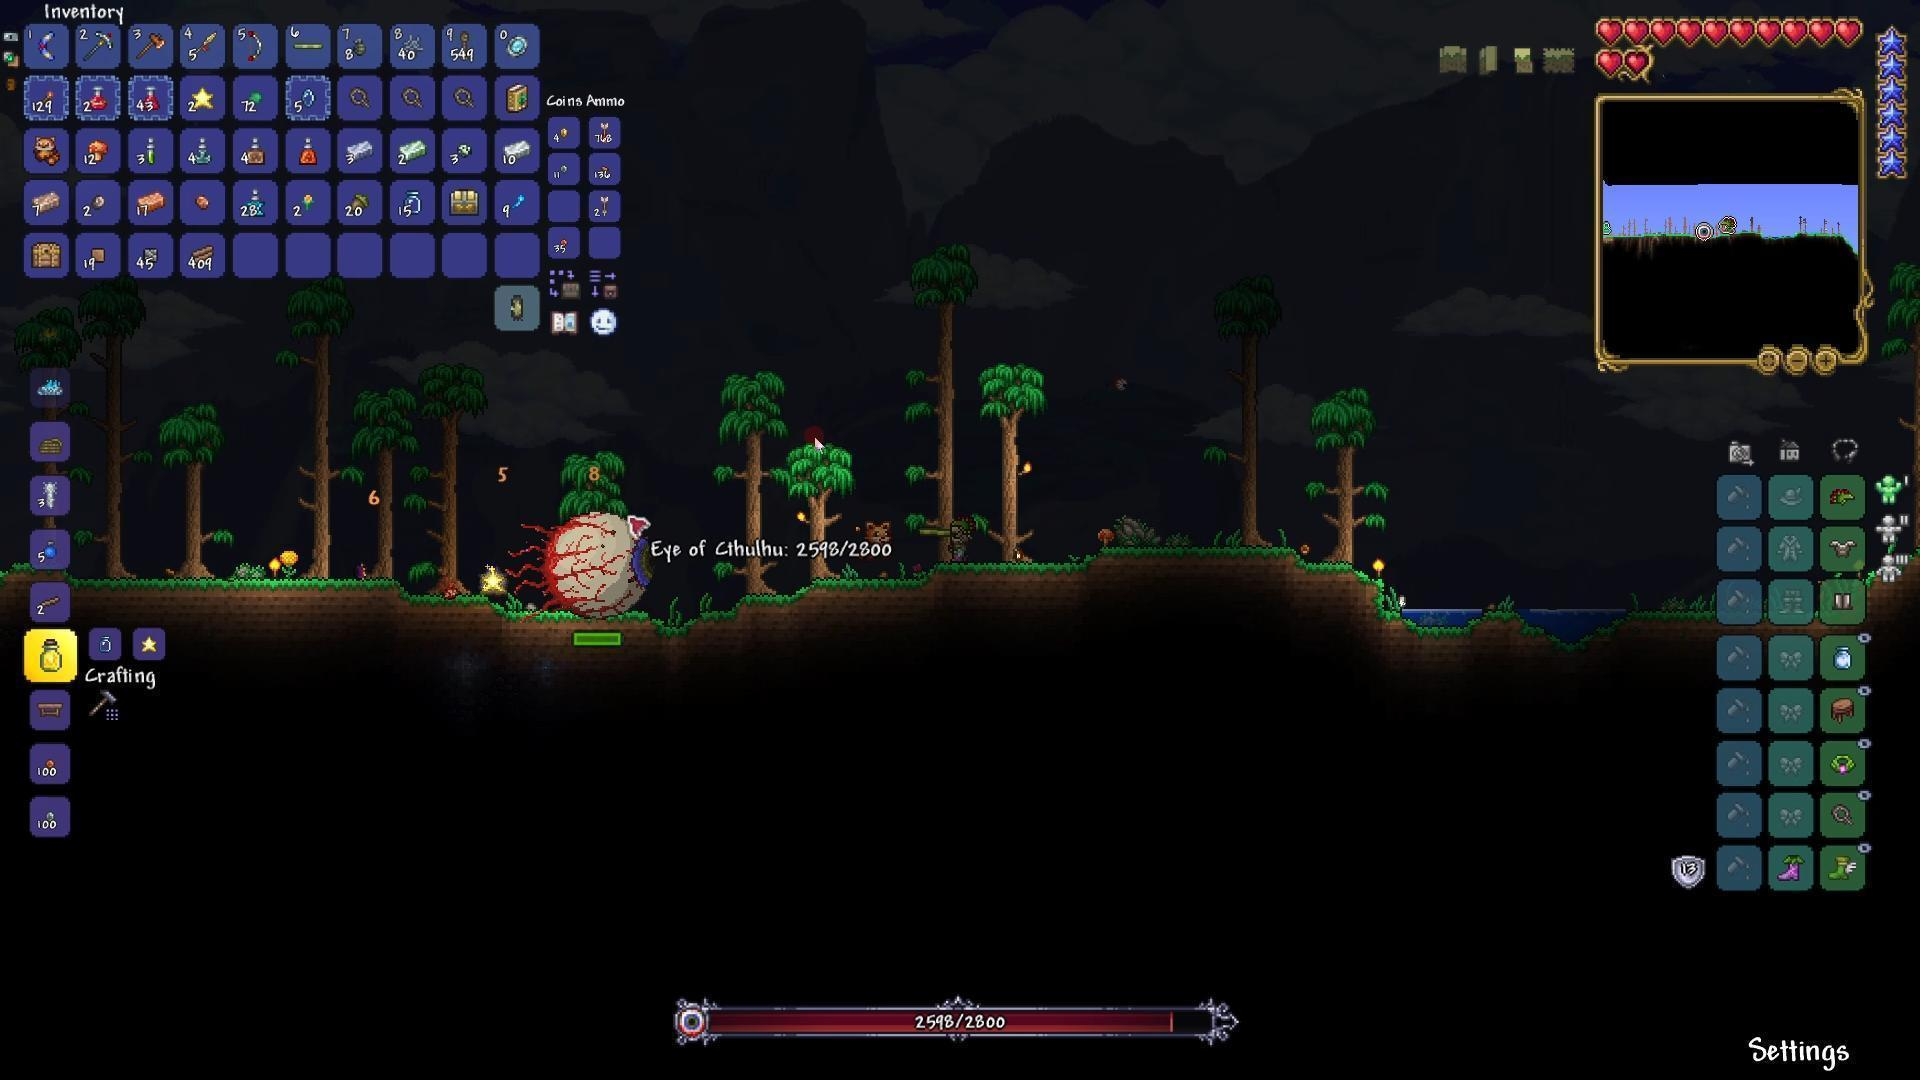breastplate: (1828, 538, 1859, 560)
cobwebI: (402, 32, 426, 55)
eyeC: (509, 501, 691, 676)
legs: (1830, 589, 1855, 611)
lens: (299, 87, 316, 111)
rope: (25, 468, 76, 516)
wood: (191, 241, 218, 262)
workbench: (37, 694, 67, 723)
